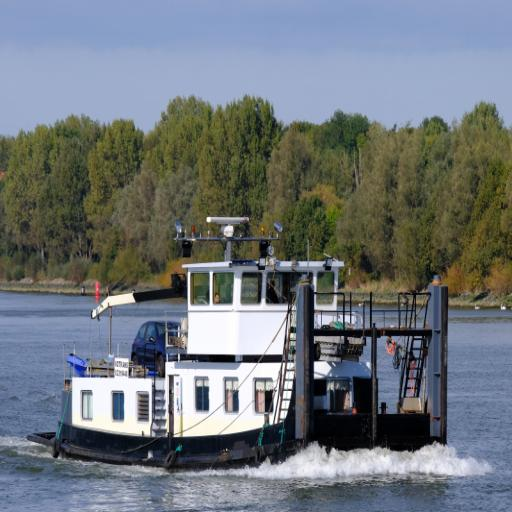tugboat: (26, 209, 453, 487)
